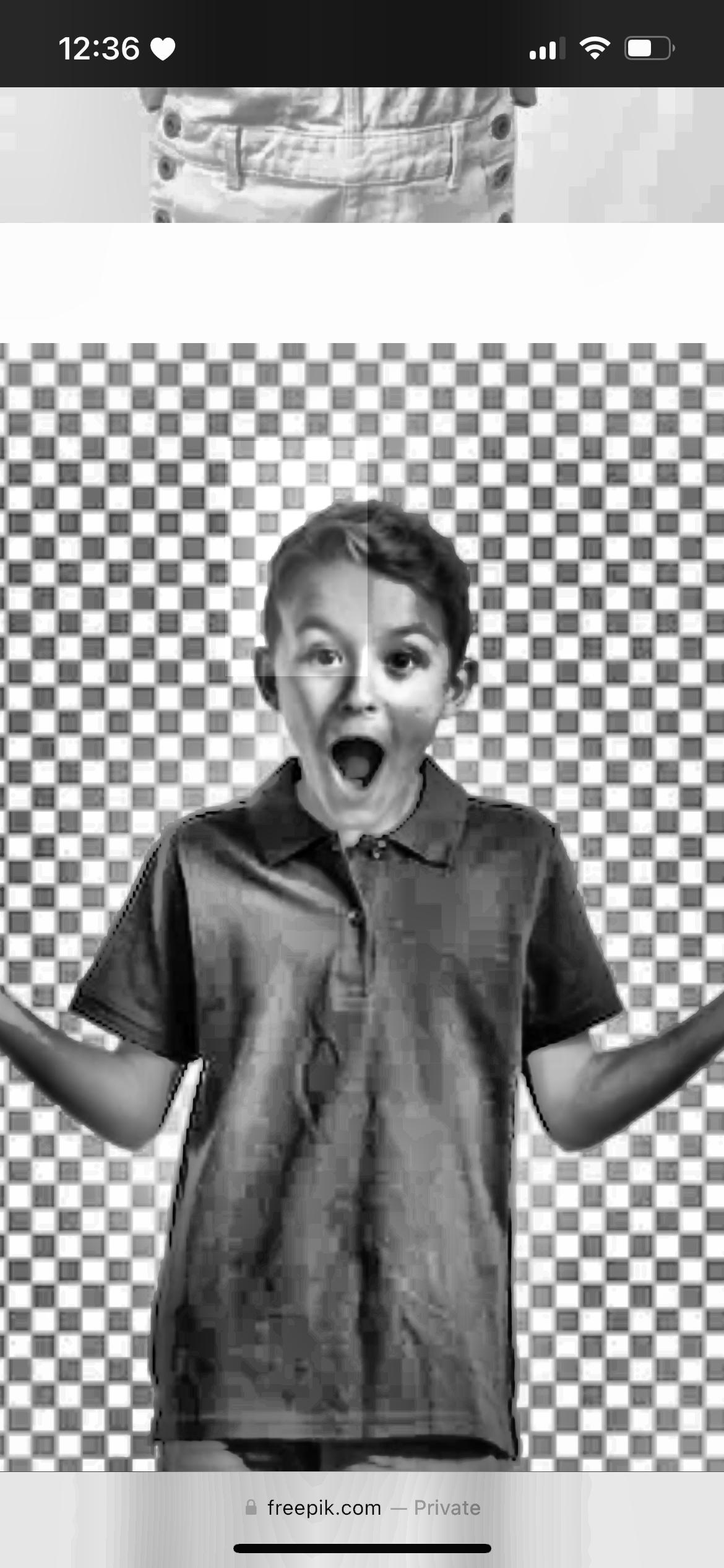Surprised: (279, 545, 454, 836)
